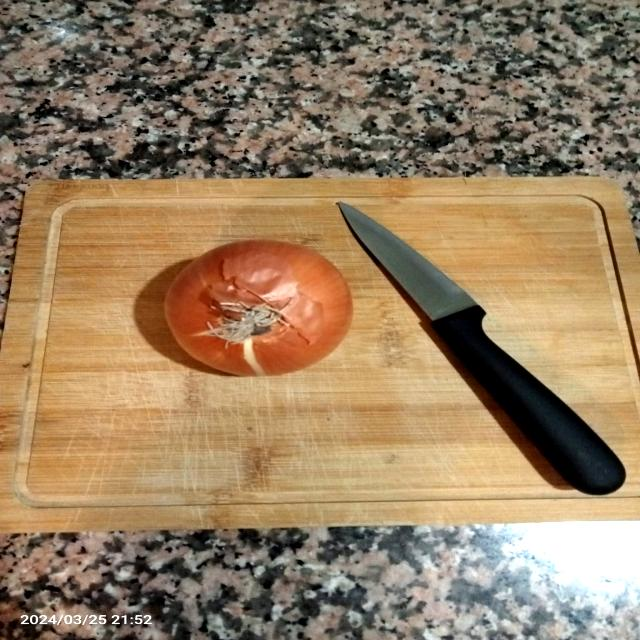onion: (149, 238, 361, 379)
